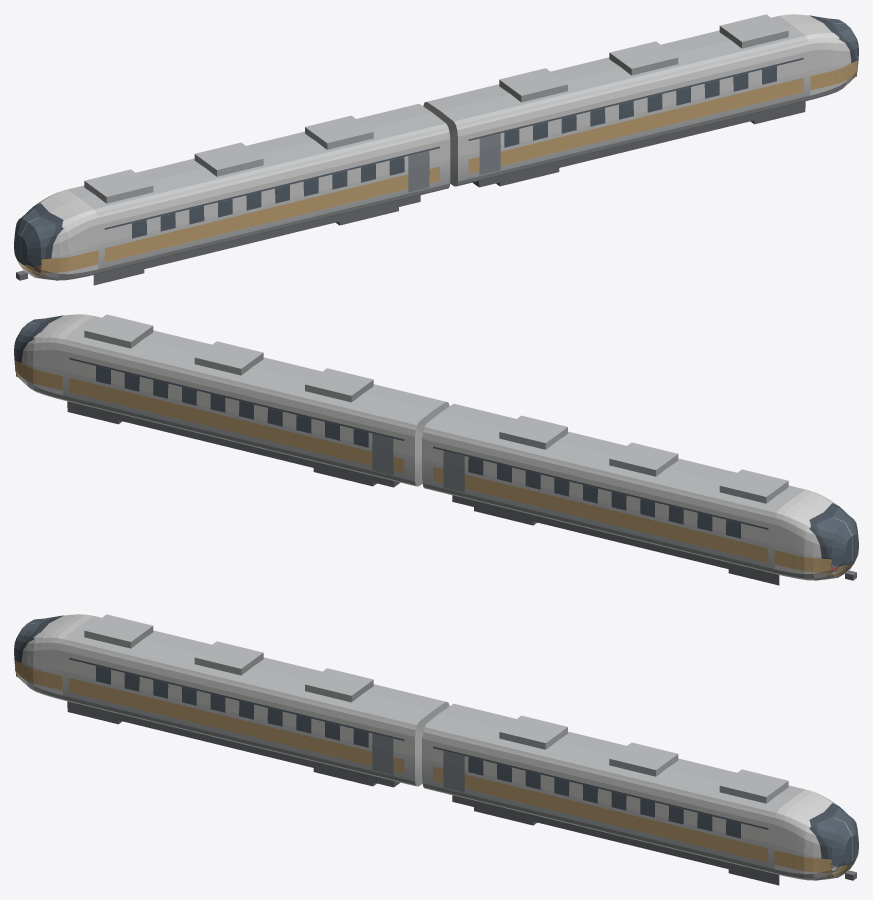
The model's file is 05_TRA_classic_3x2-04.glb.
The picture shows the model from 3 angles, top to bottom: view 1: azimuth 30°, elevation 25°; view 2: azimuth 150°, elevation 25°; view 3: azimuth 330°, elevation 25°; orthographic projection.
Bounding box in the file's own units: 39.48 × 3.77 × 2.96.
